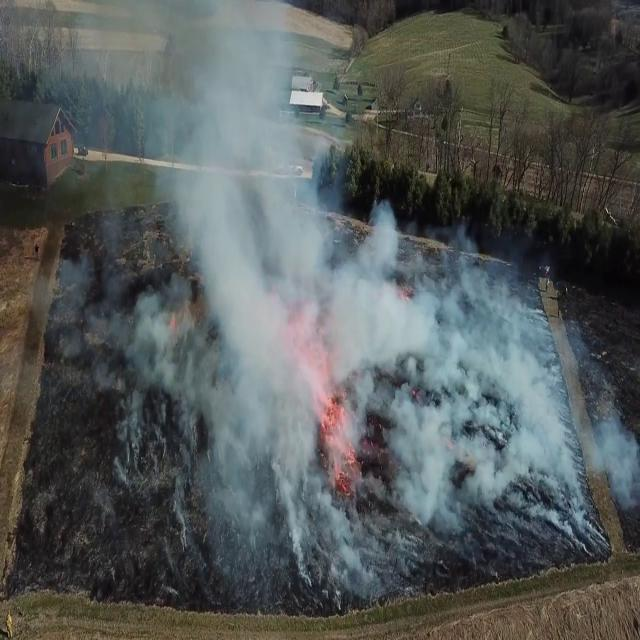Fire: (316, 374, 354, 476)
Smoke: (31, 1, 388, 584), (335, 200, 640, 564)
